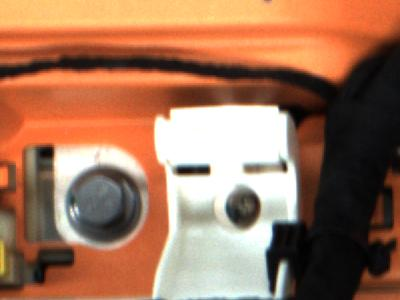nut_b: (63, 171, 147, 244)
